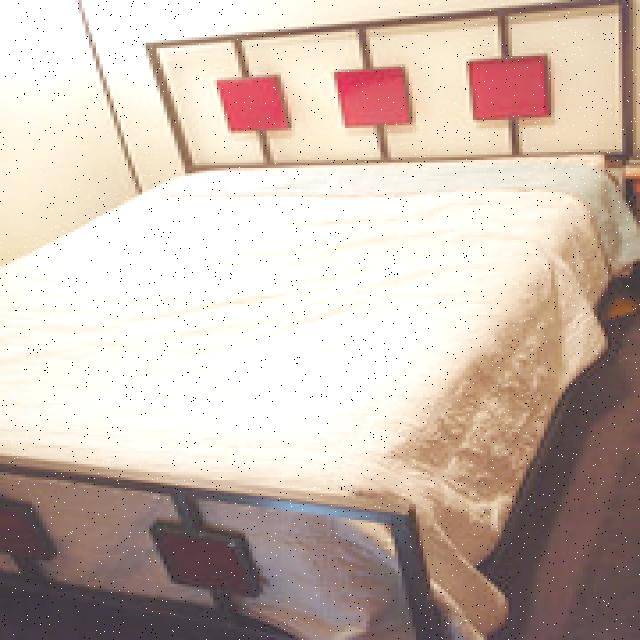bed: (24, 21, 618, 628)
